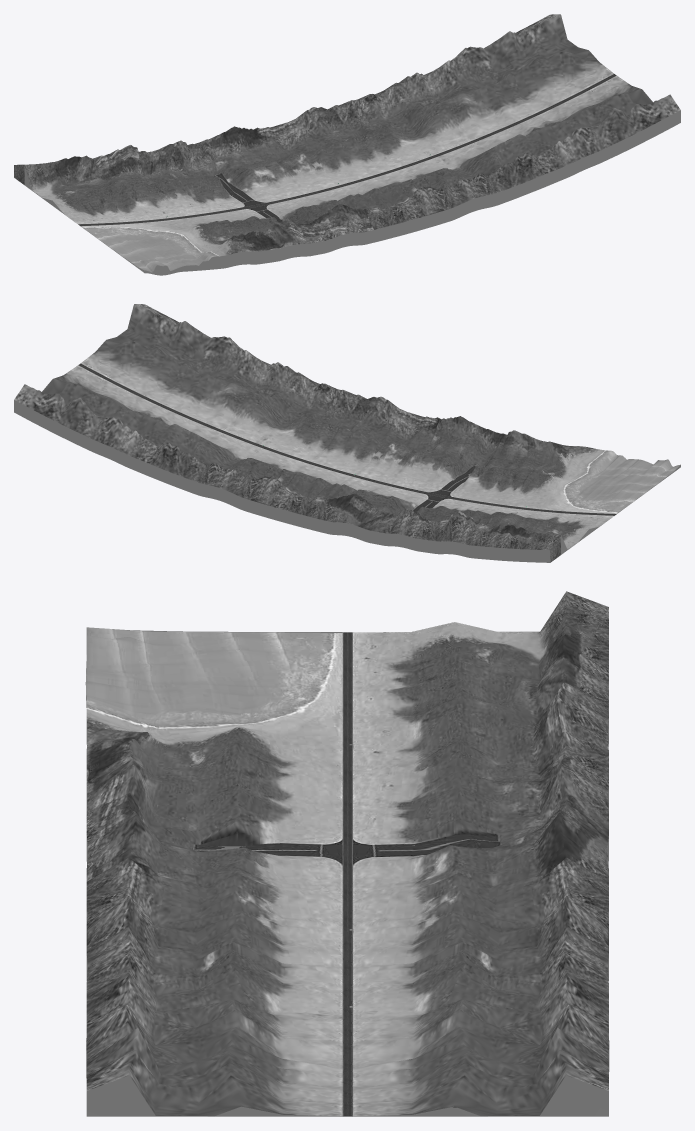
The model's file is colony_mountain_v10_line.glb.
3 views of the same model, one above another, from view 1: azimuth 30°, elevation 25°; view 2: azimuth 150°, elevation 25°; view 3: azimuth 270°, elevation 25° (orthographic). The views are drawn at different scales.
Parts seen in each view (by area): view 1: mountain, mountain_sea, colony_road; view 2: mountain_sea, mountain, colony_road; view 3: mountain, mountain_sea, colony_road.
Part boxes in pixels (x1,y1,x2,y2): mountain: [14, 14, 680, 275]; mountain_sea: [81, 75, 680, 272]; colony_road: [78, 74, 616, 226]; mountain_sea: [81, 304, 680, 513]; mountain: [14, 313, 680, 562]; colony_road: [78, 363, 616, 515]; mountain: [85, 591, 609, 1116]; mountain_sea: [86, 627, 342, 1116]; colony_road: [342, 632, 352, 1116].
Size of what is drawn, in the model's own units: 1452 by 171 by 613.
Materials: 9 (6 with a texture image).
